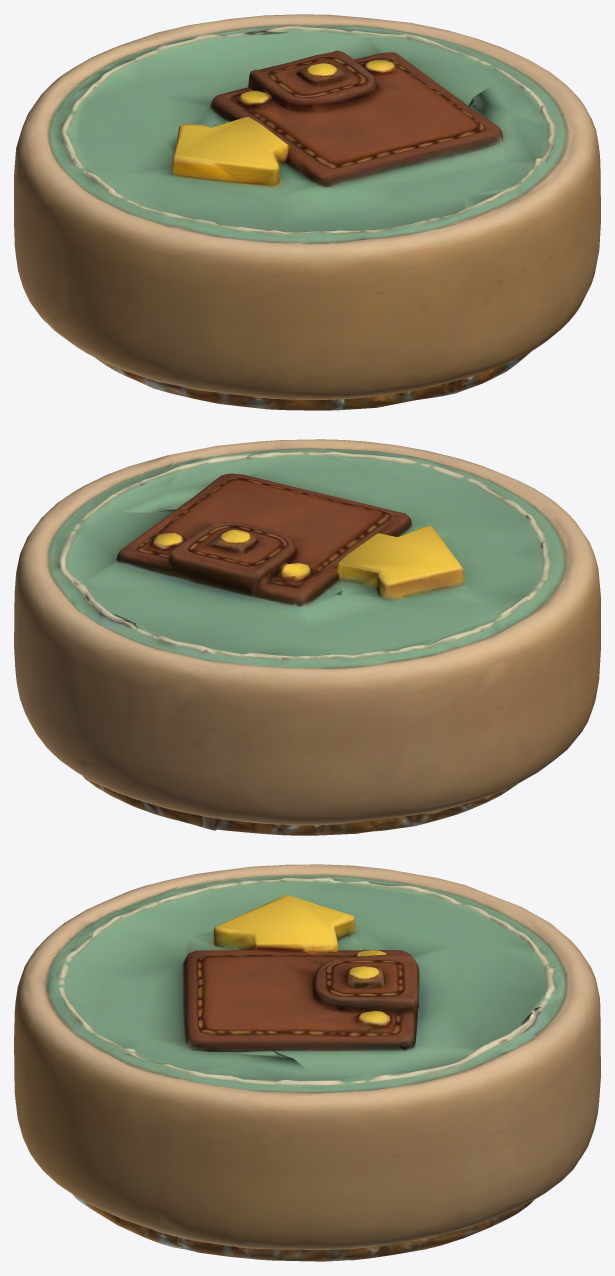
File: space-income.glb
3 views of the same model, one above another, from view 1: azimuth 30°, elevation 25°; view 2: azimuth 150°, elevation 25°; view 3: azimuth 270°, elevation 25° (orthographic).
Parts seen in each view (by area): view 1: Mesh_0; view 2: Mesh_0; view 3: Mesh_0.
Part boxes in pixels (bbox=[...]): Mesh_0: bbox=[14, 14, 600, 410]; Mesh_0: bbox=[14, 439, 600, 835]; Mesh_0: bbox=[14, 864, 600, 1261].
Bounding box in the file's own units: 2 × 0.8046 × 2.
1 material, 1 textured.
